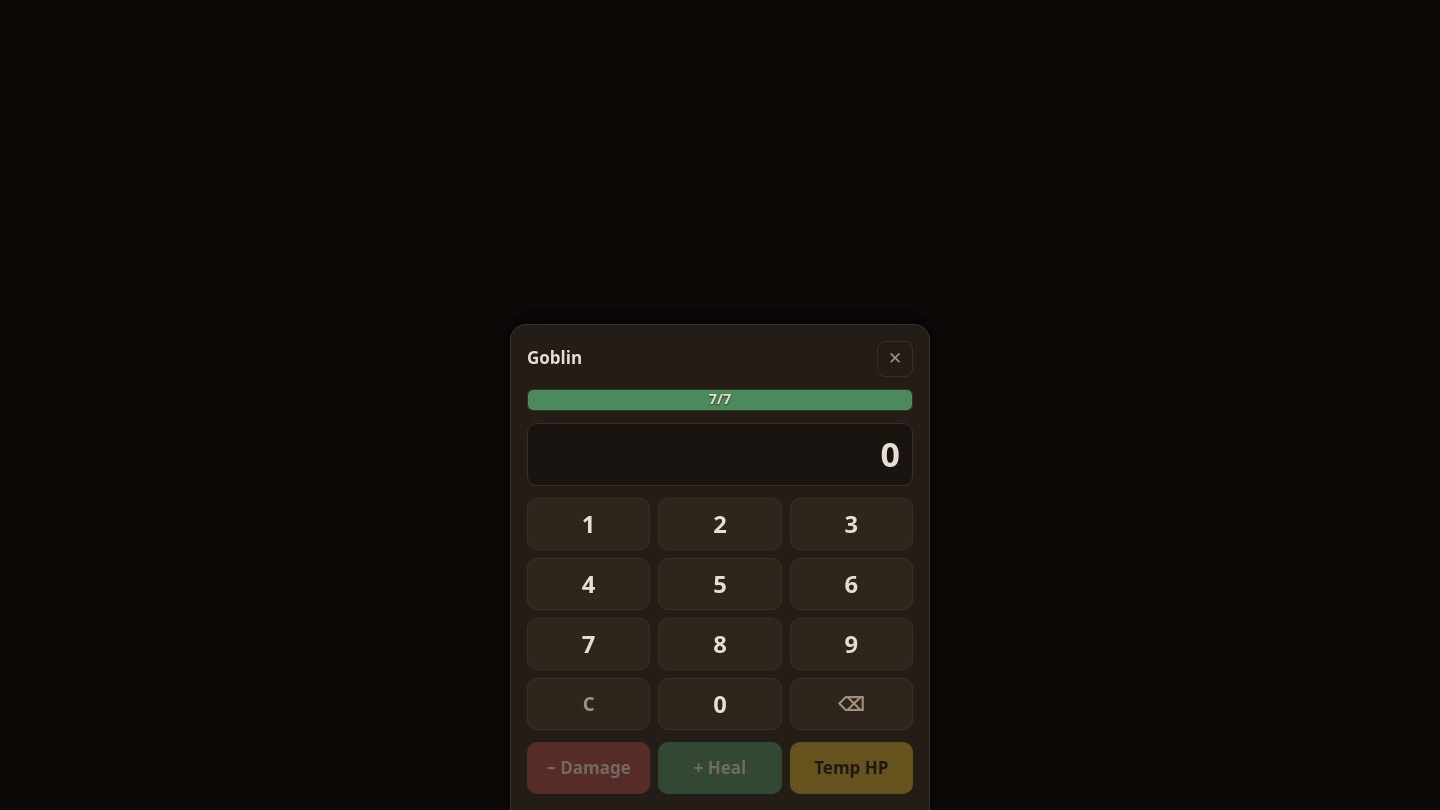
Test: HpSheet › clears the amount
Click the button "1" at (589, 524), box [527, 498, 650, 550]
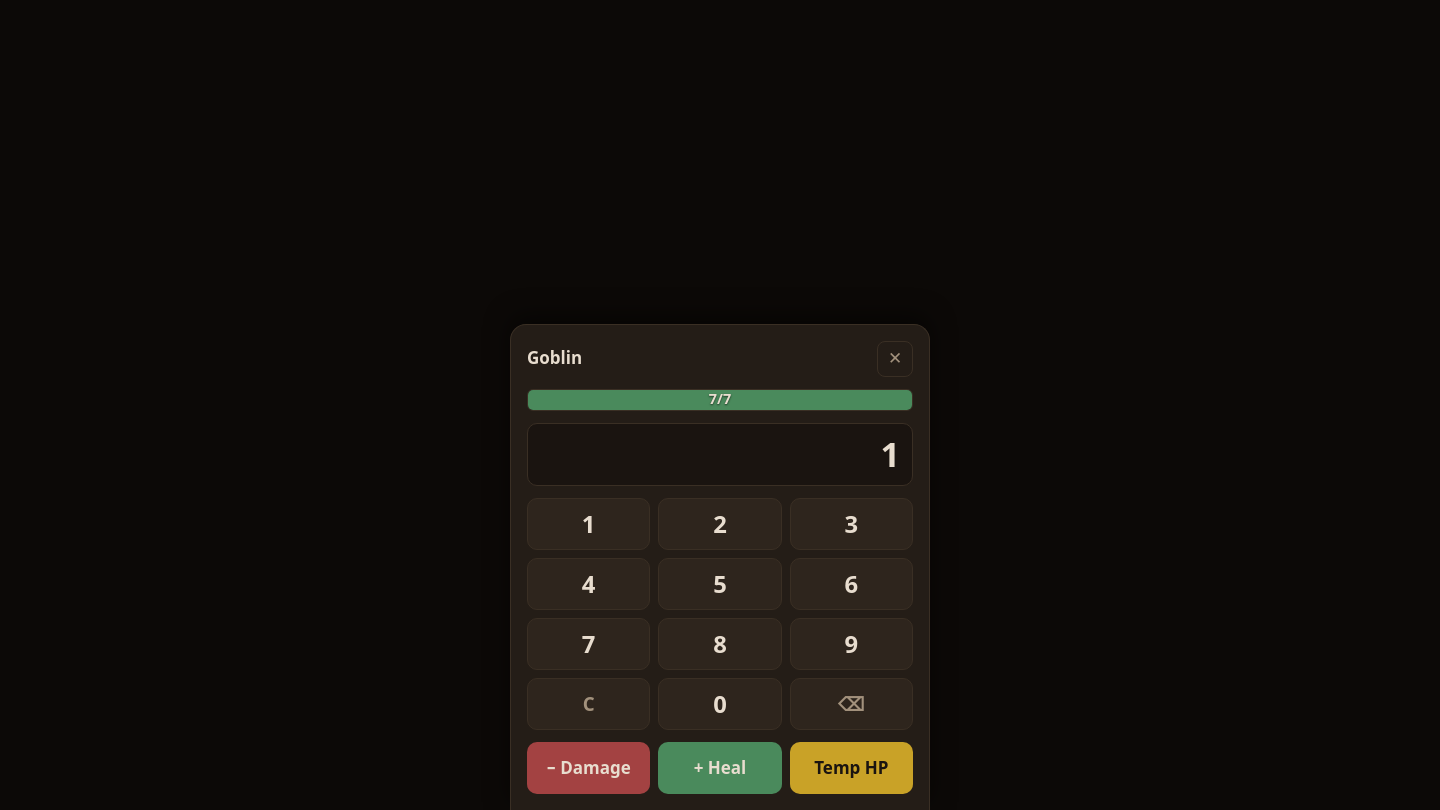
Click the button "2" at (720, 524), box [658, 498, 782, 550]
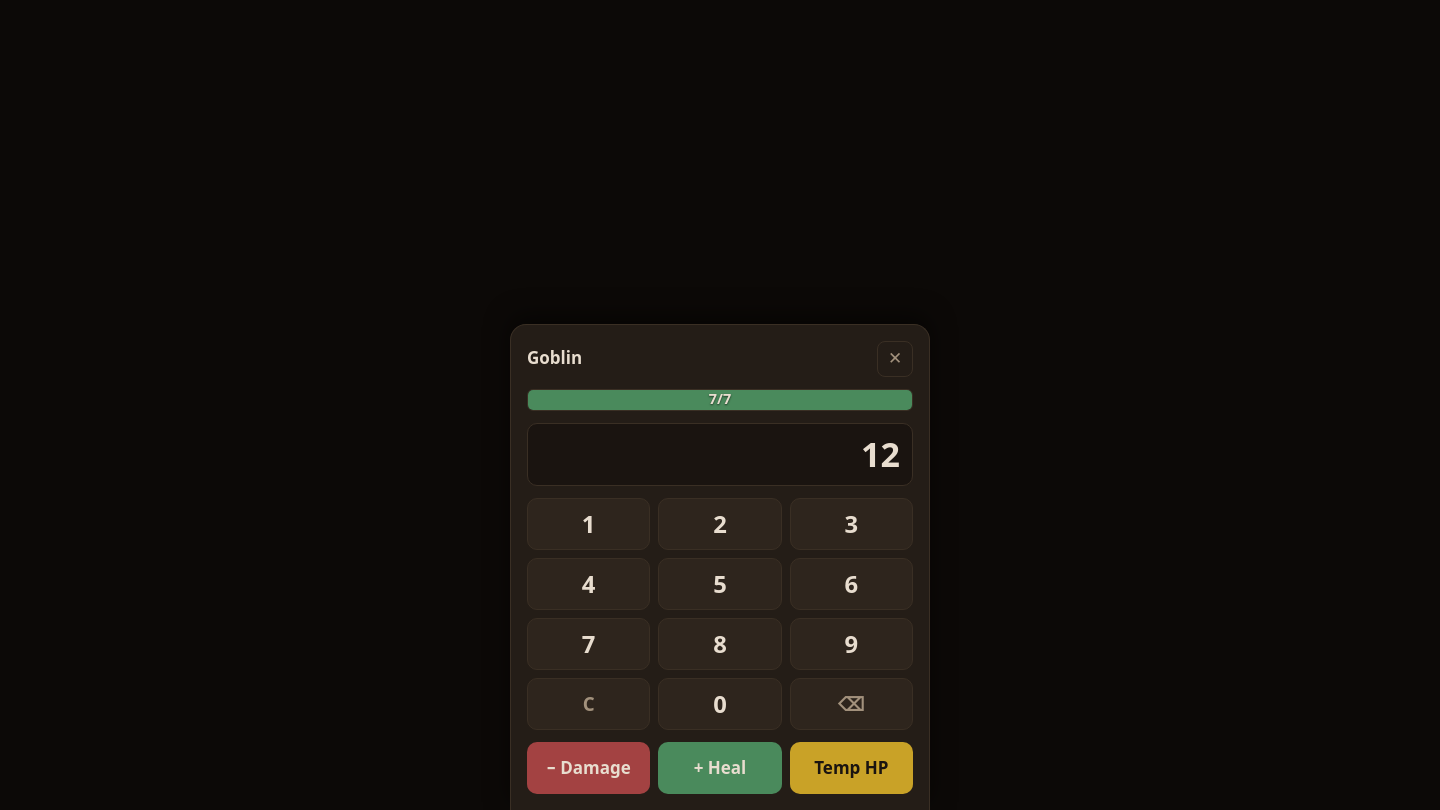
Click the button named "clear" at (589, 704), box [527, 678, 650, 730]
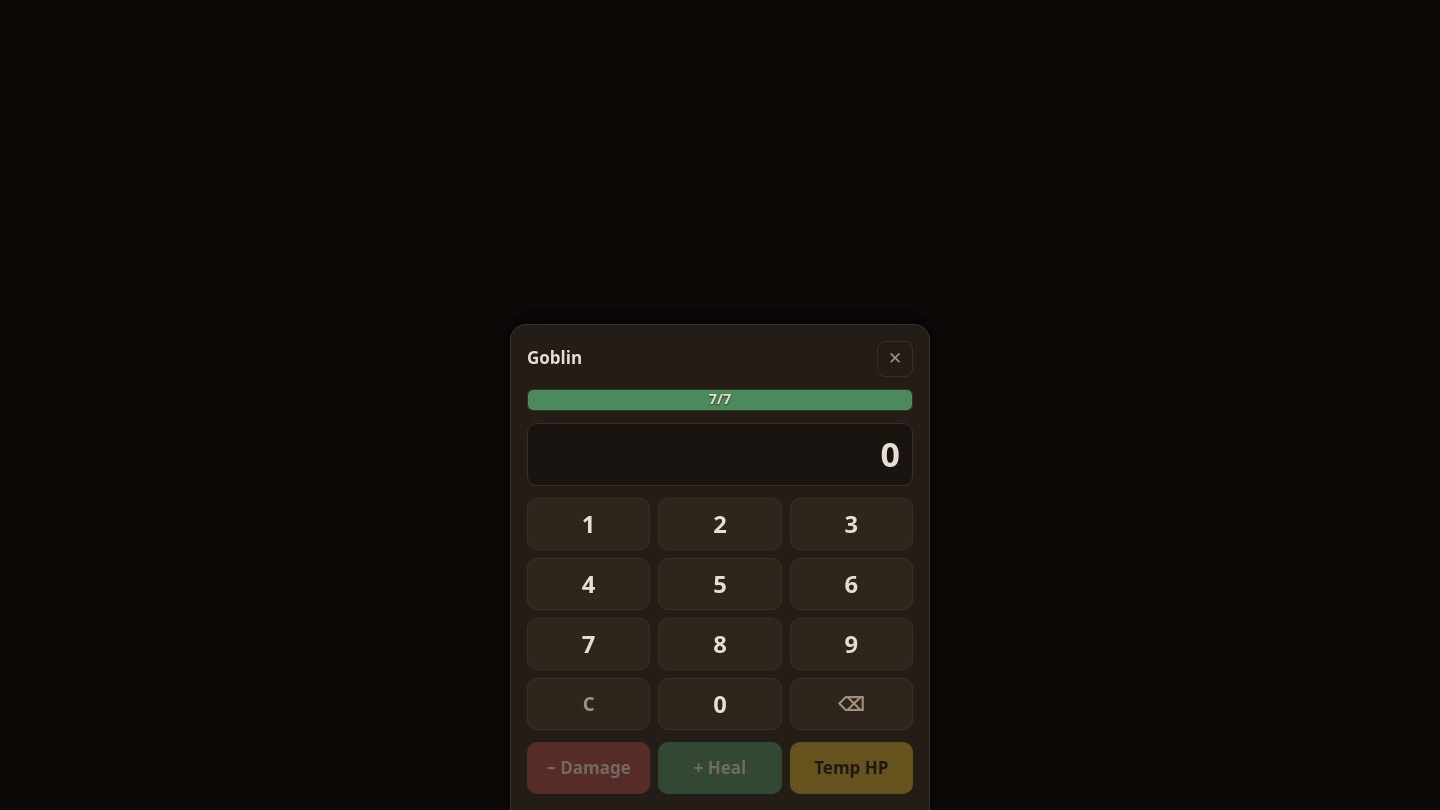
Expected: the text named "Amount" reads "0", [880, 431, 900, 477]
